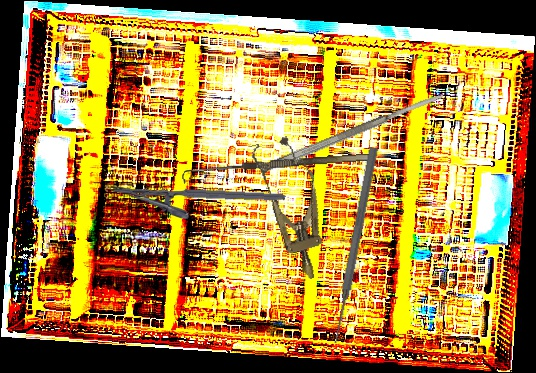Hook Surgical: (181, 153, 374, 184)
Needle Holder: (107, 183, 286, 226)
Pusher: (329, 146, 380, 345)
Spatula Surgical: (260, 90, 446, 175)
Speculum: (247, 132, 339, 286)
